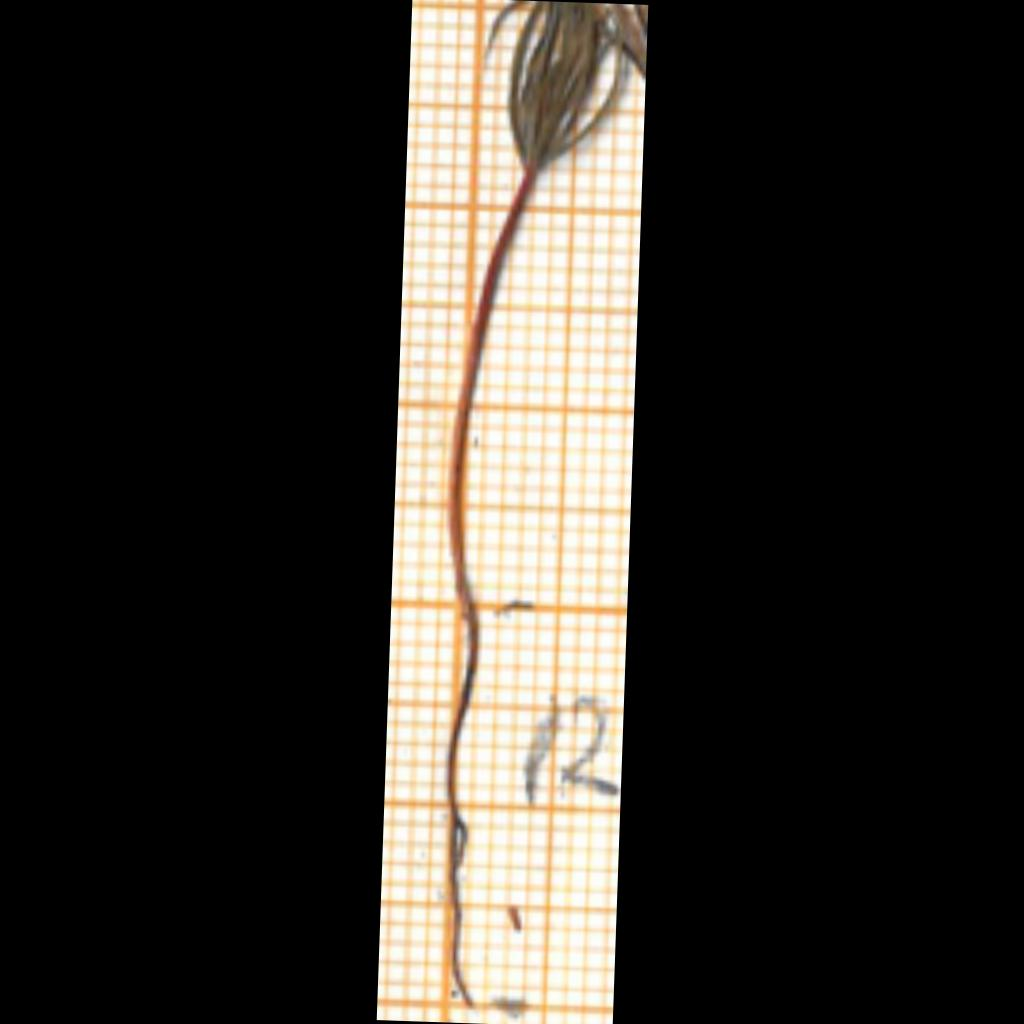flowerPinus: (508, 1, 622, 170)
rootPinus: (448, 167, 533, 613)
stemPinus: (448, 607, 479, 1005)
